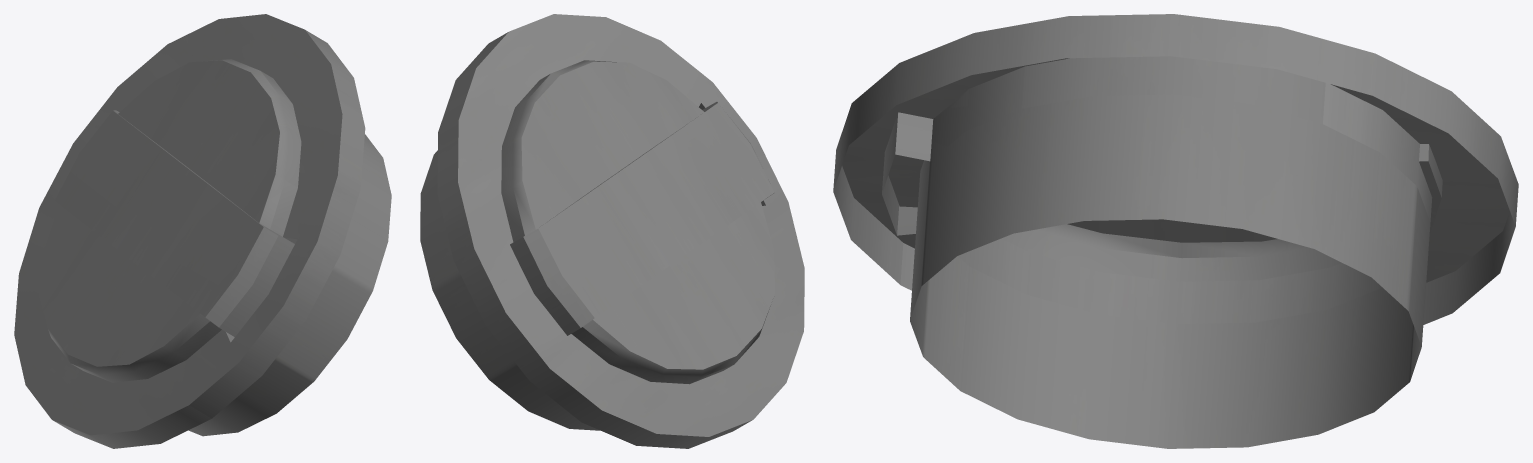
File: gasTank.obj
The picture shows the model from 3 angles, left to right: view 1: azimuth 30°, elevation 25°; view 2: azimuth 150°, elevation 25°; view 3: azimuth 270°, elevation 25°; orthographic projection. The views are drawn at different scales.
Parts seen in each view (by area): view 1: gasTank; view 2: gasTank; view 3: gasTank.
Boxes of the visible parts, <box> form: gasTank: <box>14,14,391,448</box>; gasTank: <box>420,14,804,448</box>; gasTank: <box>833,14,1518,448</box>.
Size of the model in its own units: 6.31 by 7.12 by 8.35.
1 material, 1 textured.
